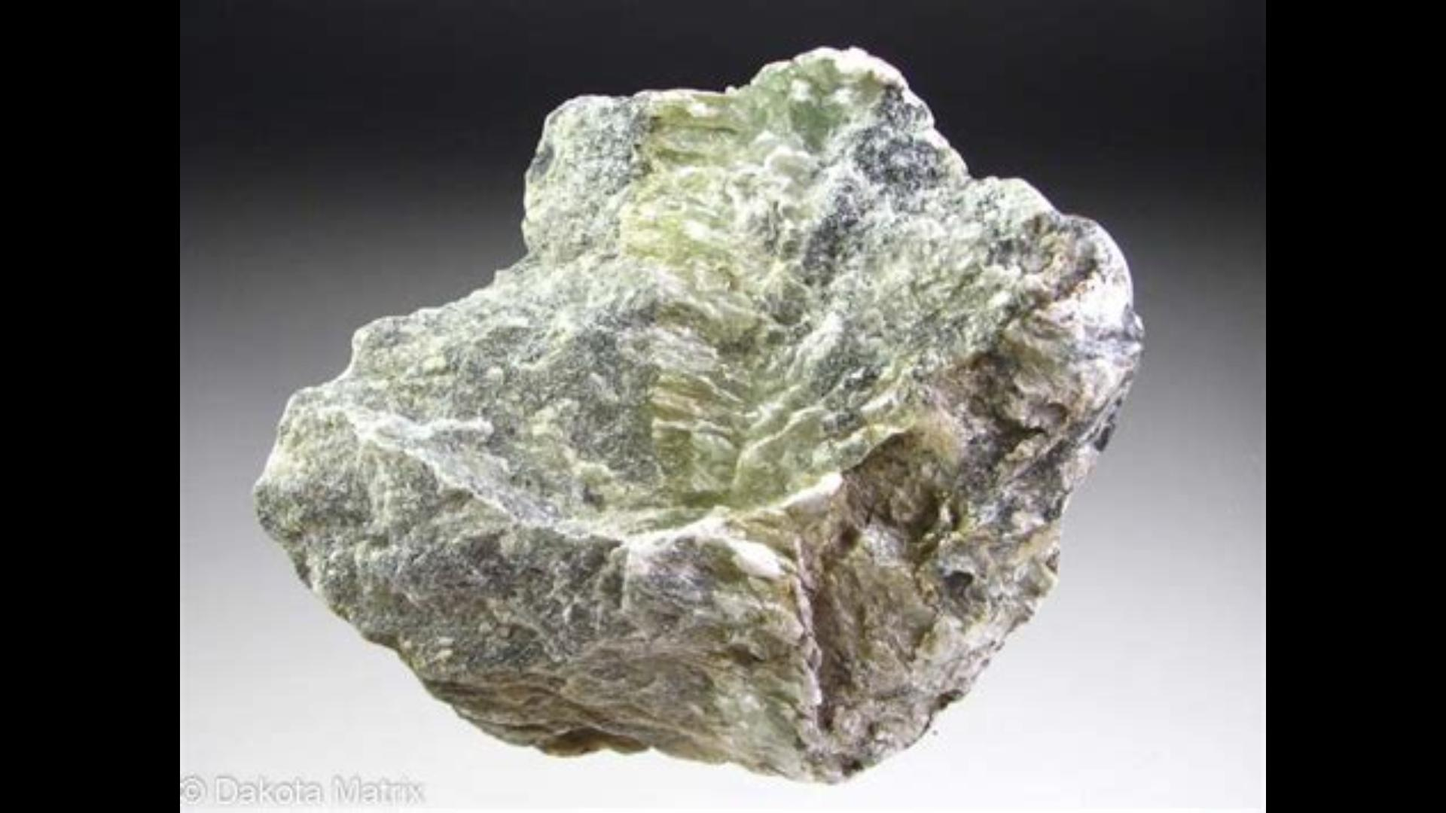rock: (258, 50, 1138, 774)
